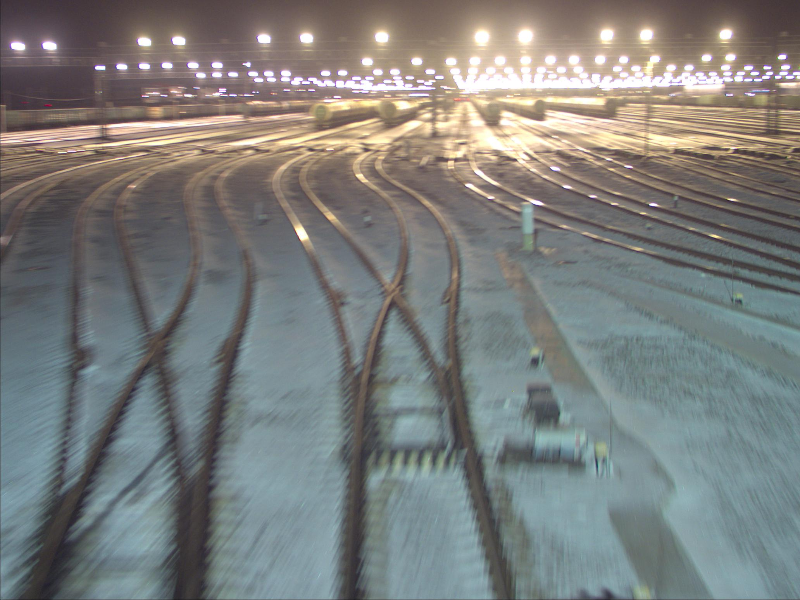right: (334, 369, 493, 456)
